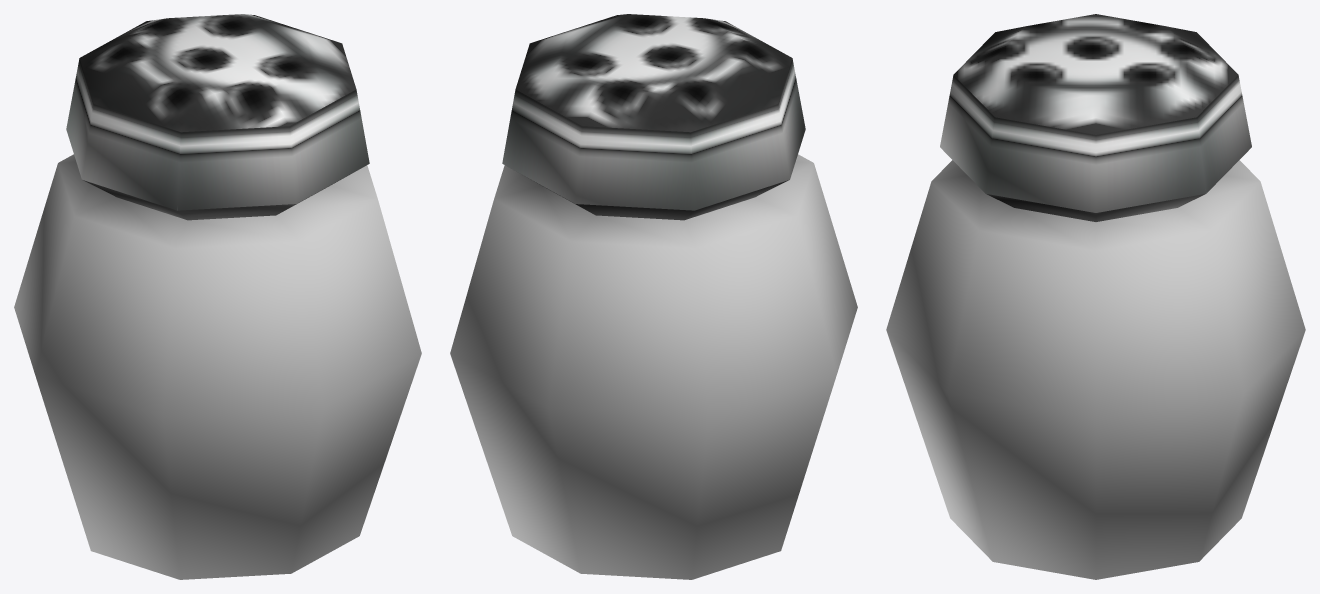
Rendered from Salt.FBX.
The picture shows the model from 3 angles, left to right: view 1: azimuth 30°, elevation 25°; view 2: azimuth 150°, elevation 25°; view 3: azimuth 270°, elevation 25°; orthographic projection.
Visible parts, largest first — view 1: Shaker; view 2: Shaker; view 3: Shaker.
Part boxes in pixels (x1,y1,x2,y2): Shaker: (14, 14, 421, 579); Shaker: (450, 14, 857, 579); Shaker: (886, 14, 1305, 579).
Size of the model in its own units: 22.58 by 27.47 by 22.58.
